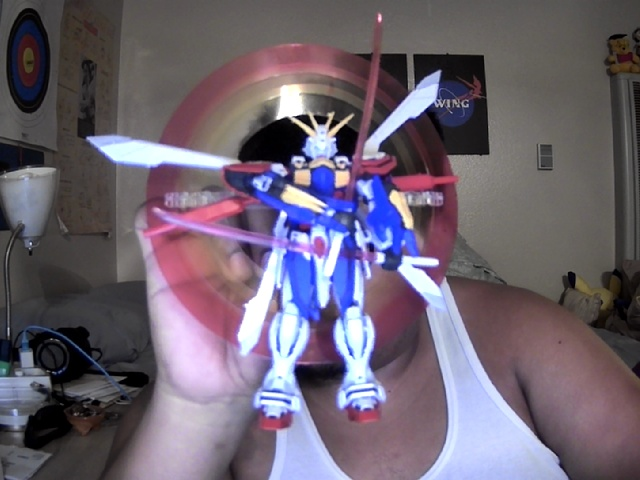God: (86, 43, 459, 432)
